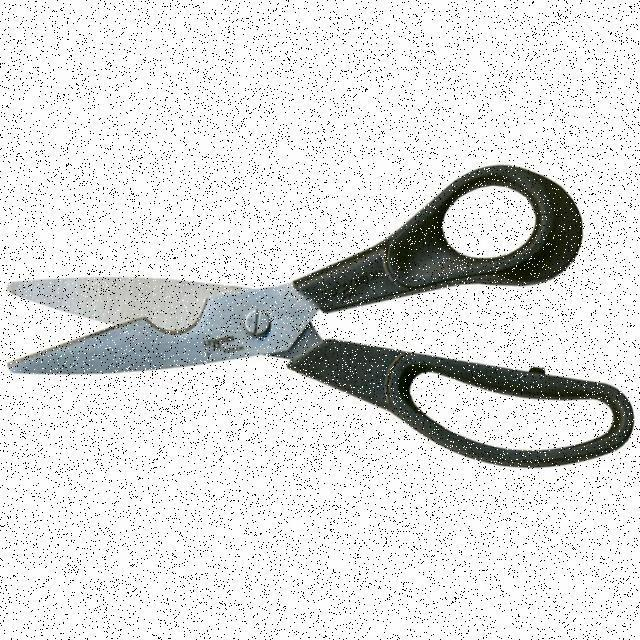scissors: (6, 158, 636, 474)
